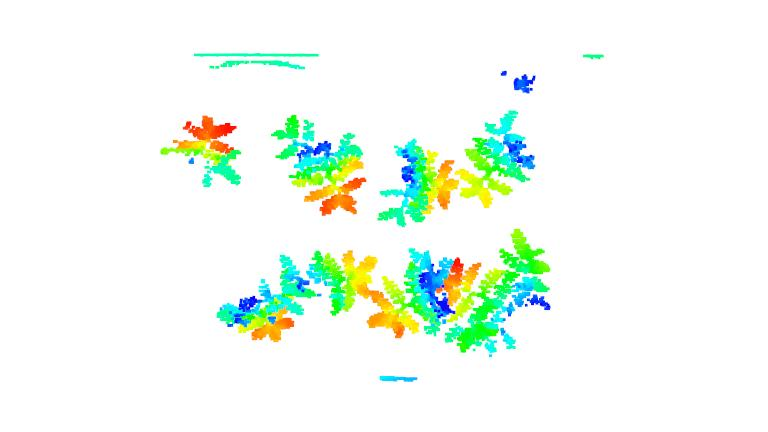chickpea: (436, 228, 551, 356), (452, 106, 541, 209), (213, 252, 314, 342), (275, 112, 364, 214), (367, 241, 453, 339), (374, 135, 461, 227), (158, 114, 244, 189), (309, 244, 384, 315)
